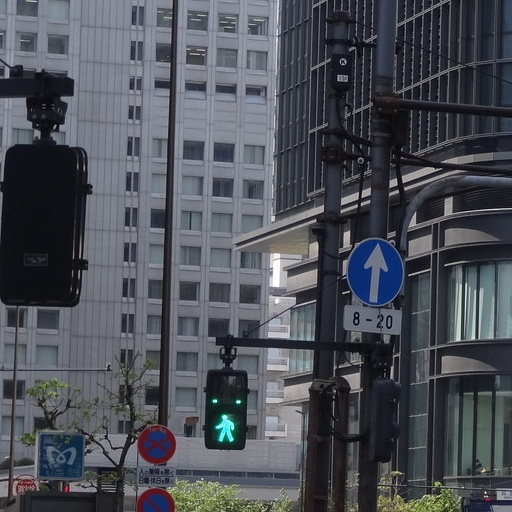Pedestrian_Signal_Blue: (200, 363, 249, 451)
